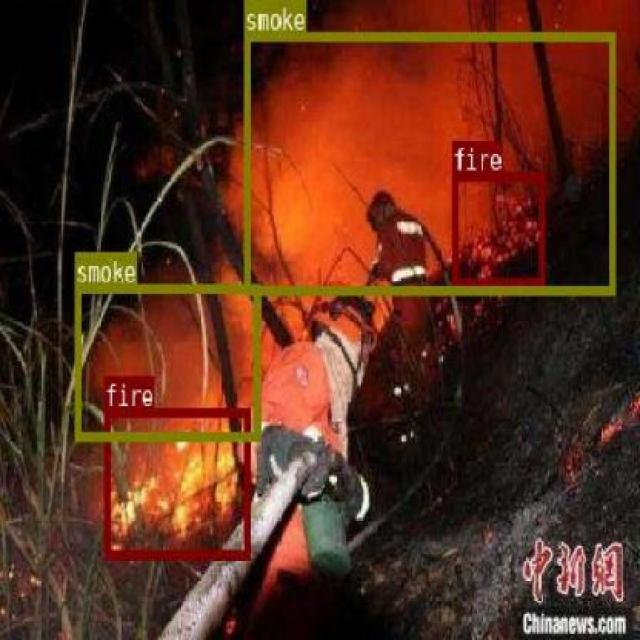Fire: (103, 408, 249, 557), (451, 172, 544, 286)
Smoke: (243, 31, 614, 294), (75, 283, 258, 439)
